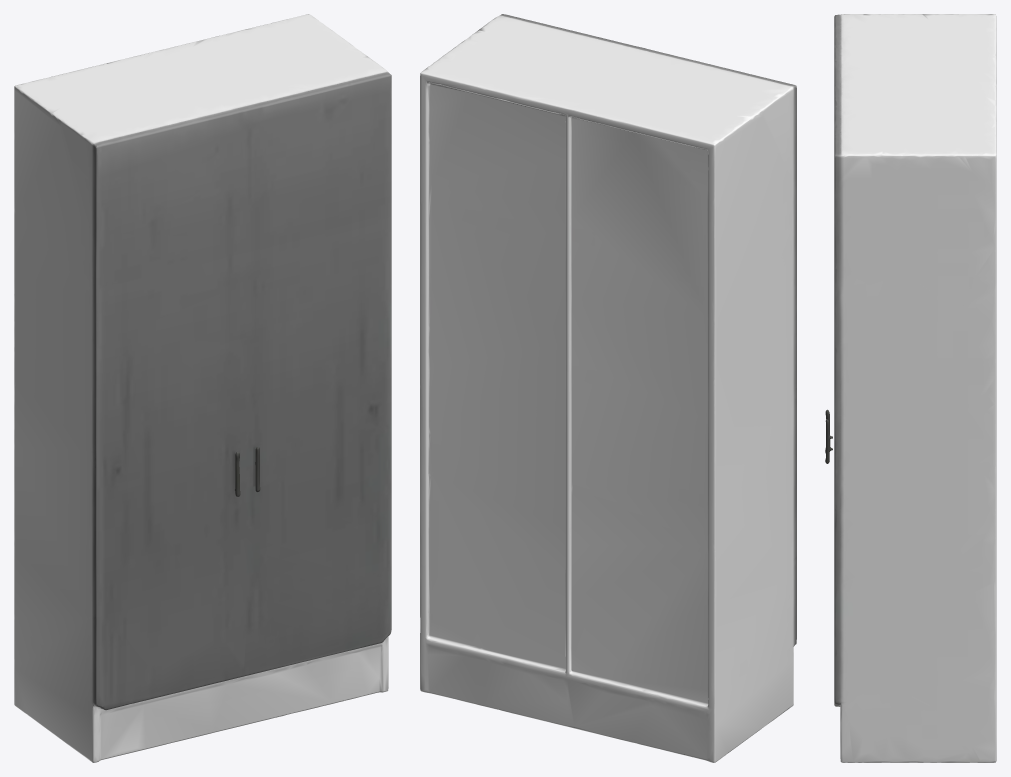
The model's file is WyajazQPMr8LbS7Gb9IeL.glb.
3 renders of one model, left to right at view 1: azimuth 30°, elevation 25°; view 2: azimuth 150°, elevation 25°; view 3: azimuth 270°, elevation 25°, orthographic.
Parts seen in each view (by area): view 1: geometry_0; view 2: geometry_0; view 3: geometry_0.
Part boxes in pixels (x1=…): geometry_0: x1=14, y1=14, x2=391, y2=762; geometry_0: x1=420, y1=14, x2=796, y2=762; geometry_0: x1=825, y1=14, x2=996, y2=762.
Bounding box in the file's own units: 0.5012 × 1 × 0.2561.
1 material, 1 textured.
